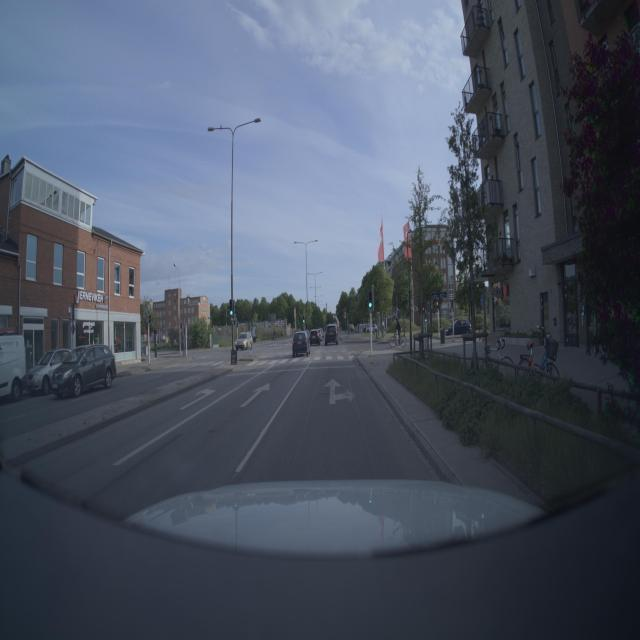green_light: (366, 293, 375, 313), (229, 298, 236, 318)
